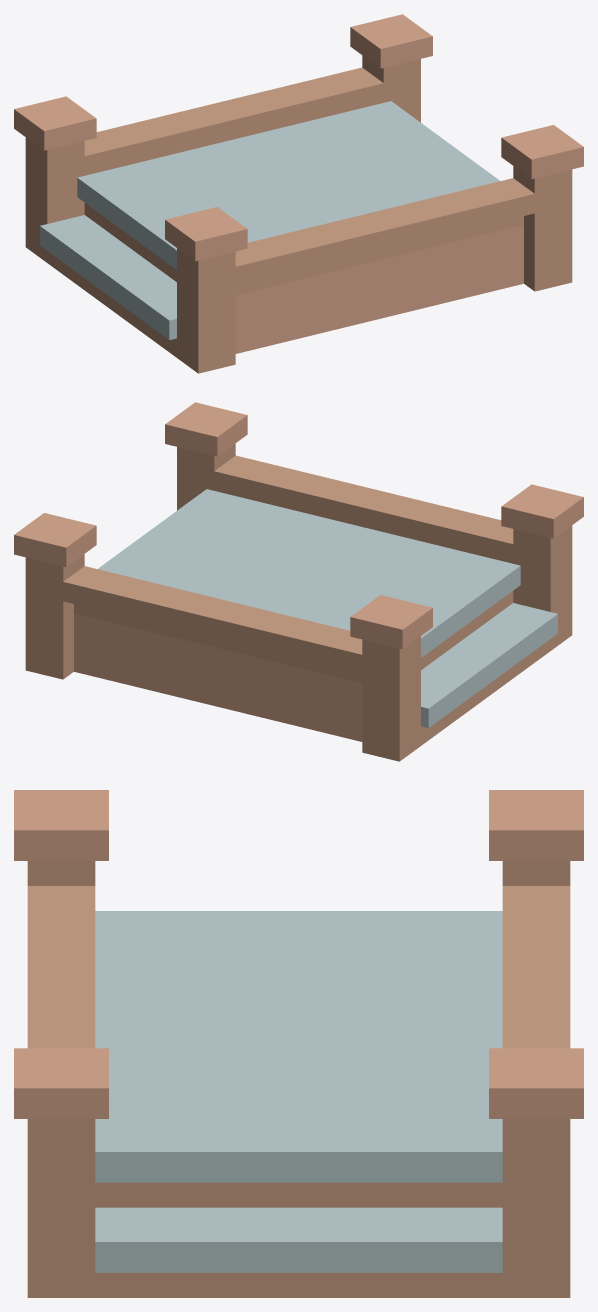
Rendered from bridge_woodNarrow.glb.
3 renders of one model, top to bottom at view 1: azimuth 30°, elevation 25°; view 2: azimuth 150°, elevation 25°; view 3: azimuth 270°, elevation 25°, orthographic. The views are drawn at different scales.
Visible parts, largest first — view 1: bridge_woodNarrow; view 2: bridge_woodNarrow; view 3: bridge_woodNarrow.
Boxes of the visible parts, bbox=[...] form: bridge_woodNarrow: bbox=[14, 14, 583, 373]; bridge_woodNarrow: bbox=[14, 402, 583, 761]; bridge_woodNarrow: bbox=[14, 790, 583, 1297].
Size of the model in its own units: 1.04 by 0.35 by 0.84.
